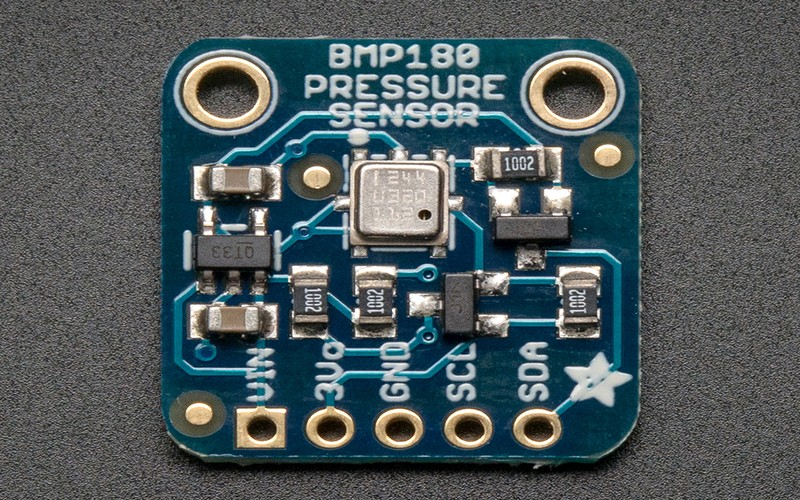Regulator: (144, 19, 649, 474)
